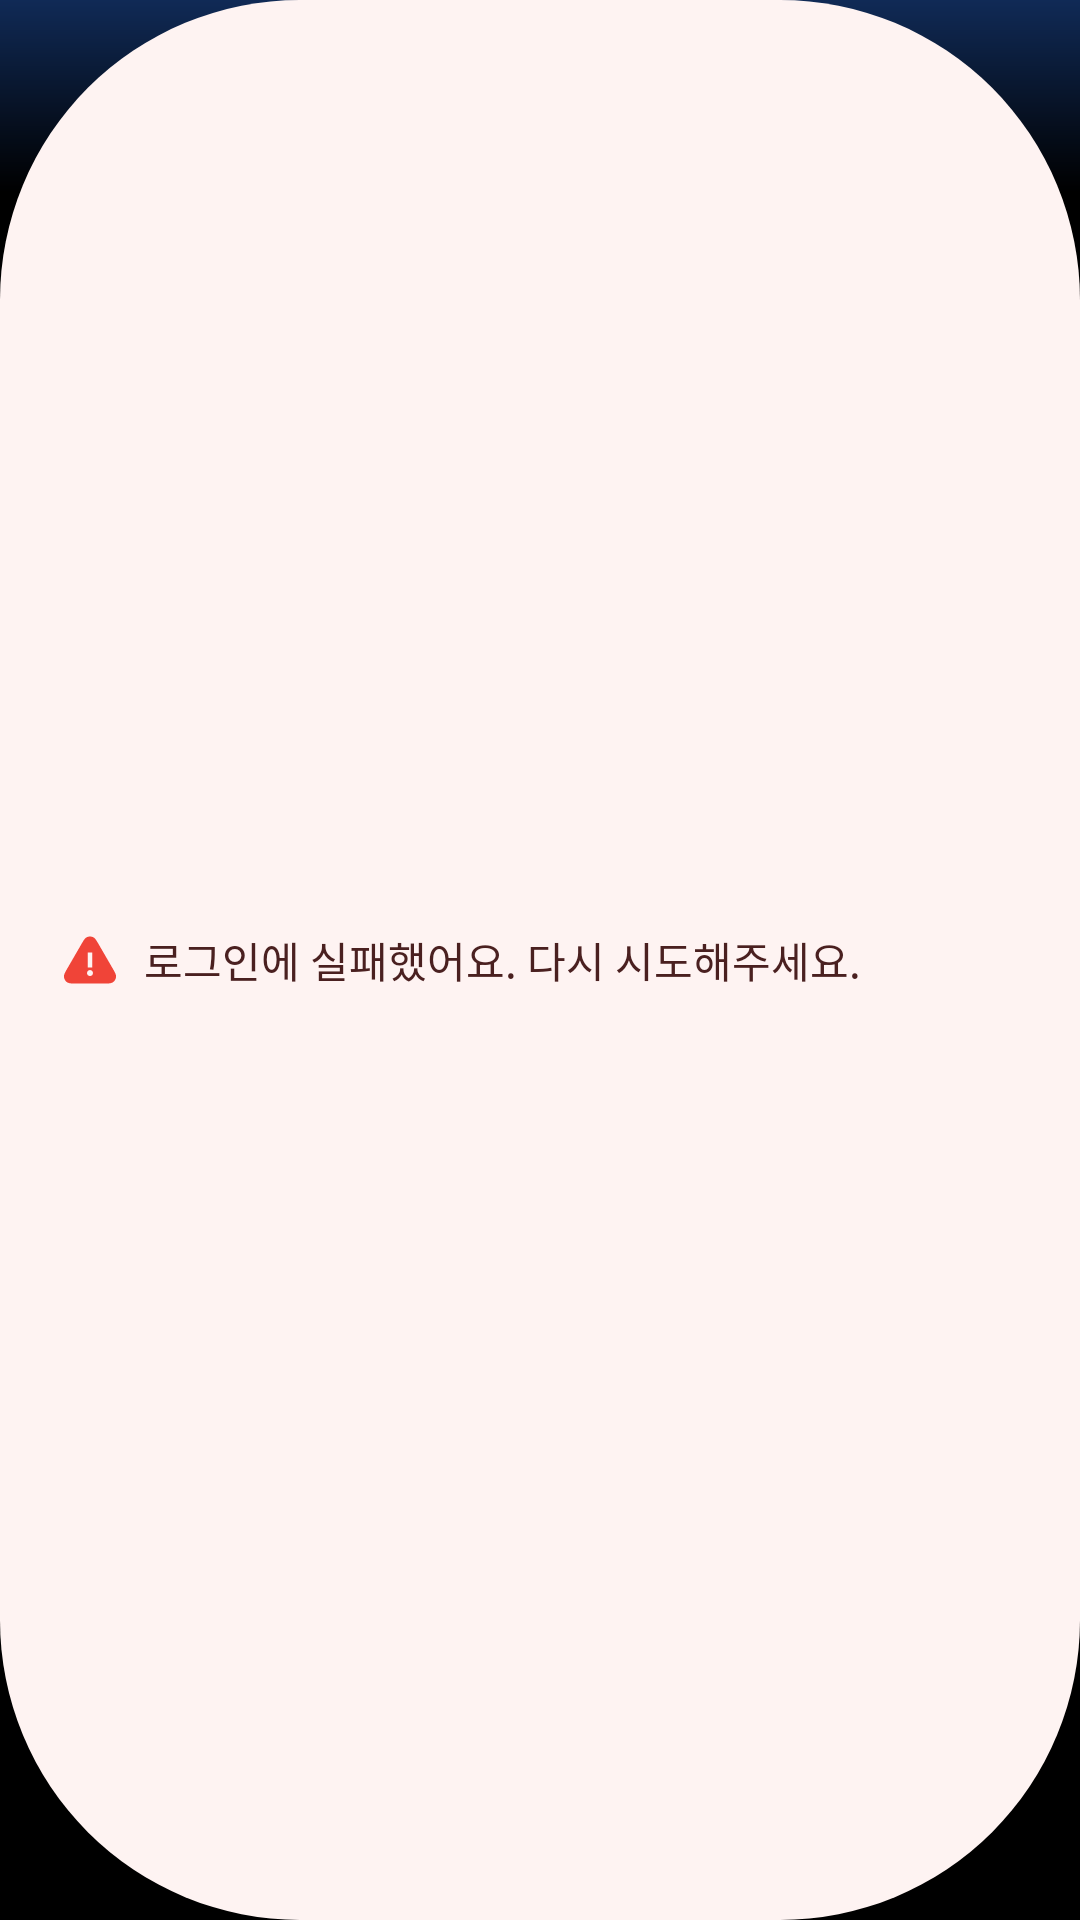

Where icons sit on this 1080px×1920px app screen, as {"x1": x1, "y1": y1, "x2": x2, "y2": y2}:
warning: {"x1": 64, "y1": 936, "x2": 116, "y2": 984}
